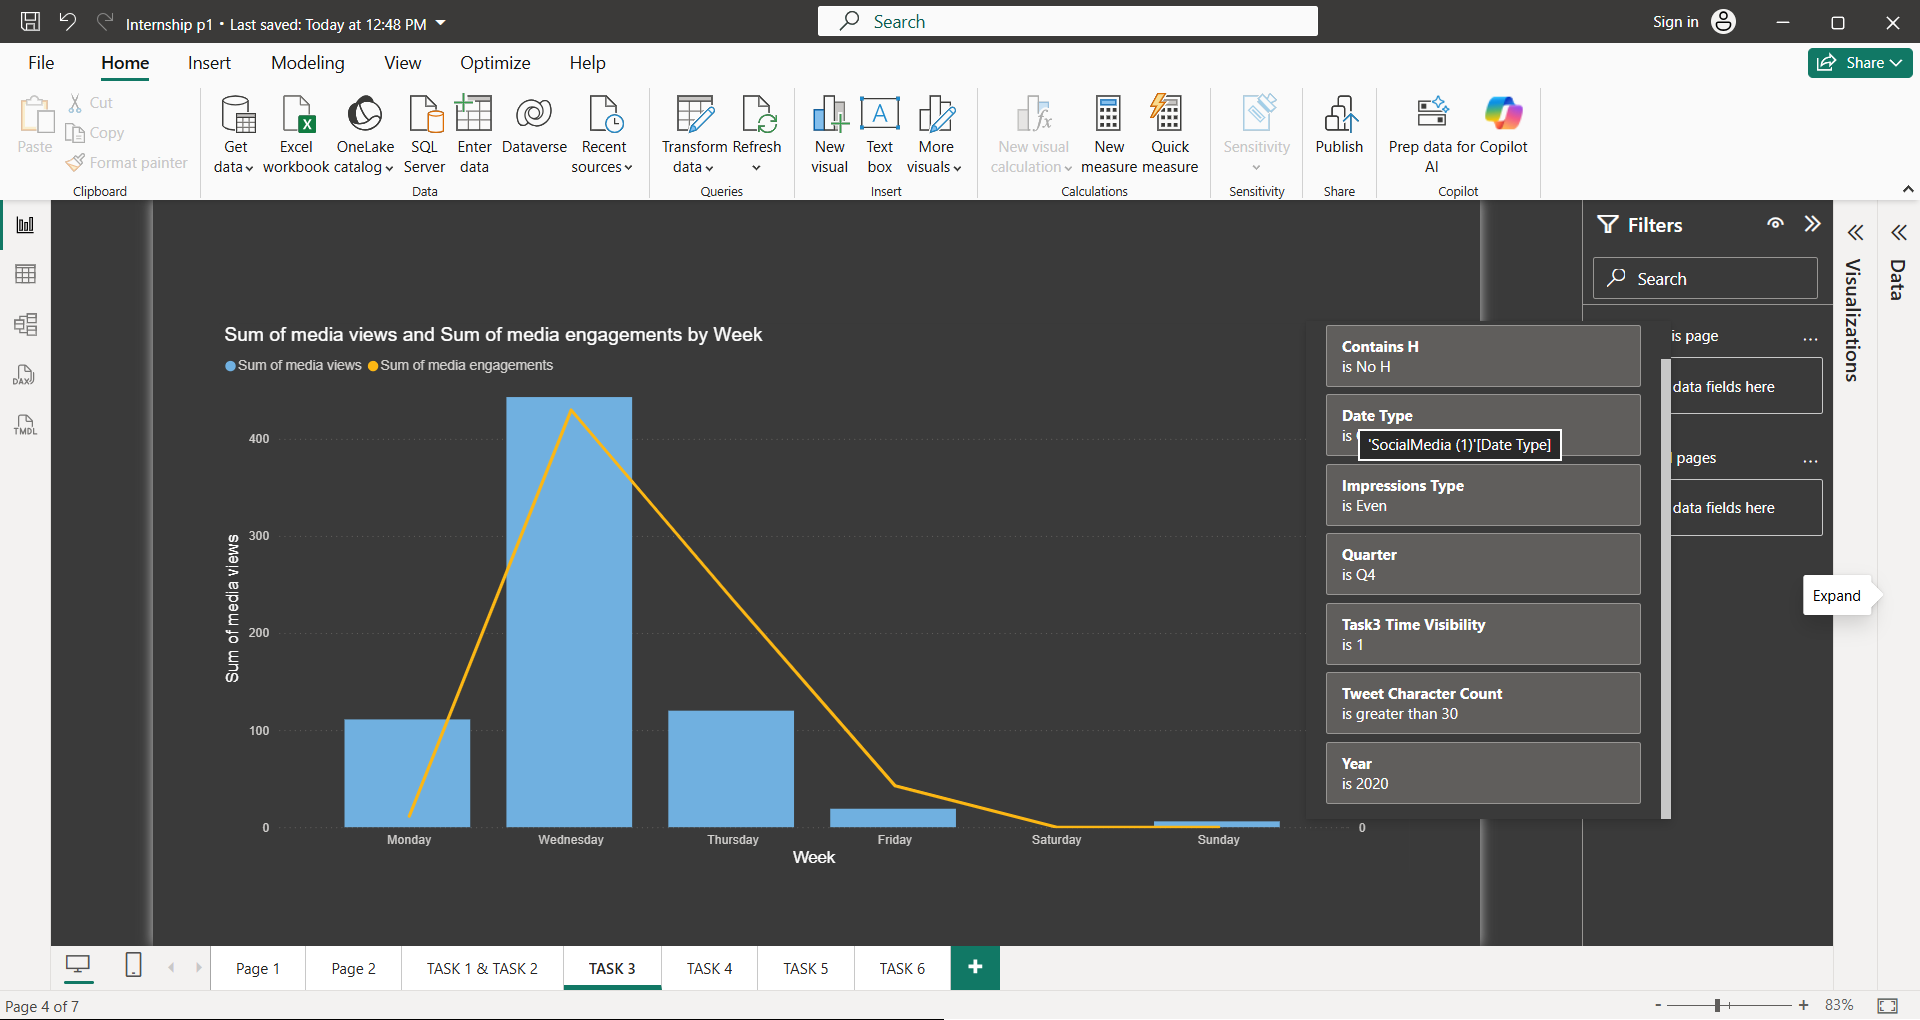

Layout of this report page (visuals, bound fields, positions):
{"tool":"powerbi","page":{"name":"TASK 3","canvas":[1280,720],"ordinal":3},"visuals":[{"type":"lineClusteredColumnComboChart","fields":{"Category":["SocialMedia (1).Week"],"Y":["Sum(SocialMedia (1).media views)"],"Y2":["Sum(SocialMedia (1).media engagements)"]},"box":[0,115.8,1148.5,528.4],"z":0}]}

Visuals, with their boxes on the page's 1280x720 design canvas (x1, y1, x2, y2). These are canvas units, not pixel positions in the 1920x1020 screenshot, which may show the page scaled, cropped or inside an application window:
lineClusteredColumnComboChart - SocialMedia (1).Week x Sum(SocialMedia (1).media views): (0, 116, 1148, 644)
